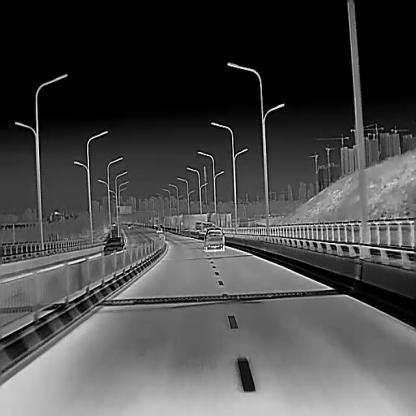car: (203, 228, 225, 249), (103, 237, 126, 255), (202, 220, 217, 229), (195, 219, 202, 229), (155, 225, 163, 233)
